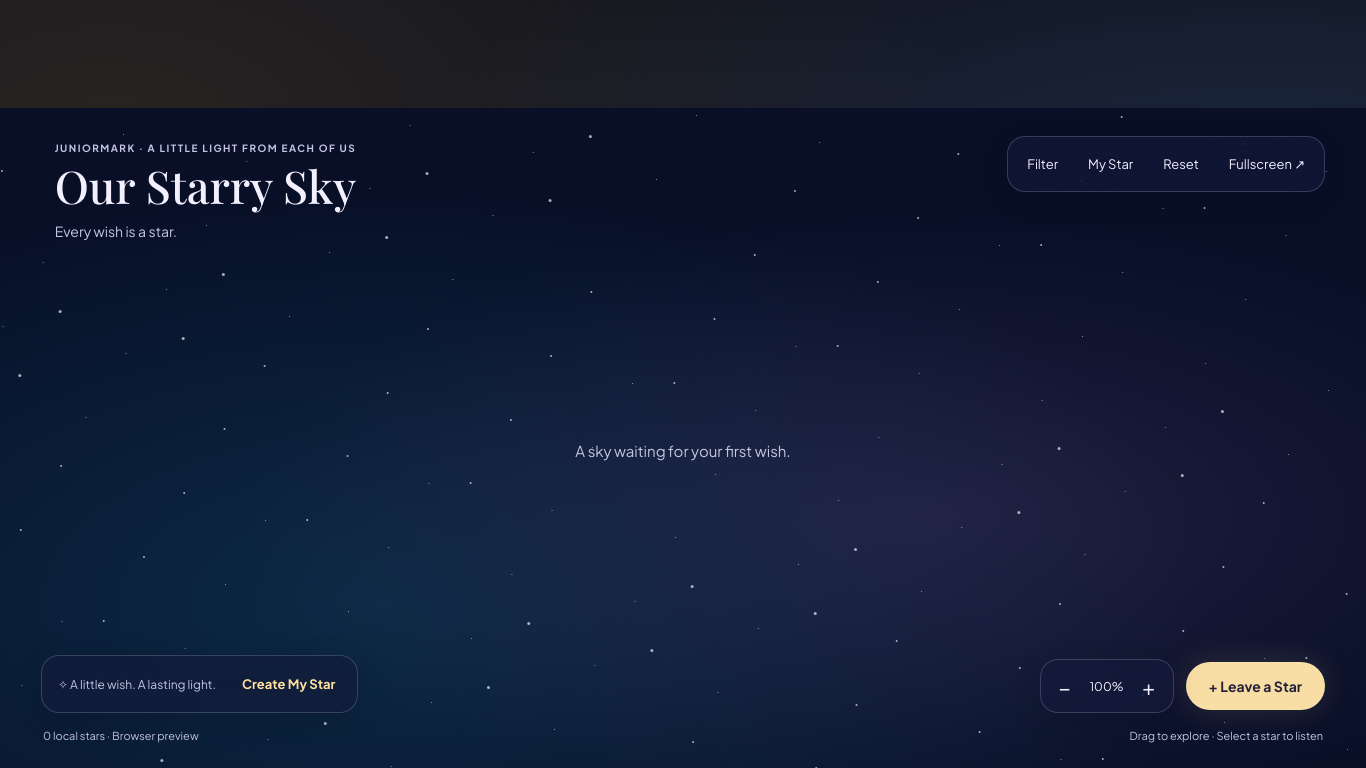
Test case: does not launch when saving a validated wish fails
This screenshot has width=1366, height=768.
Click the button "+ Leave a Star" at (1255, 686), box [1186, 662, 1325, 710]
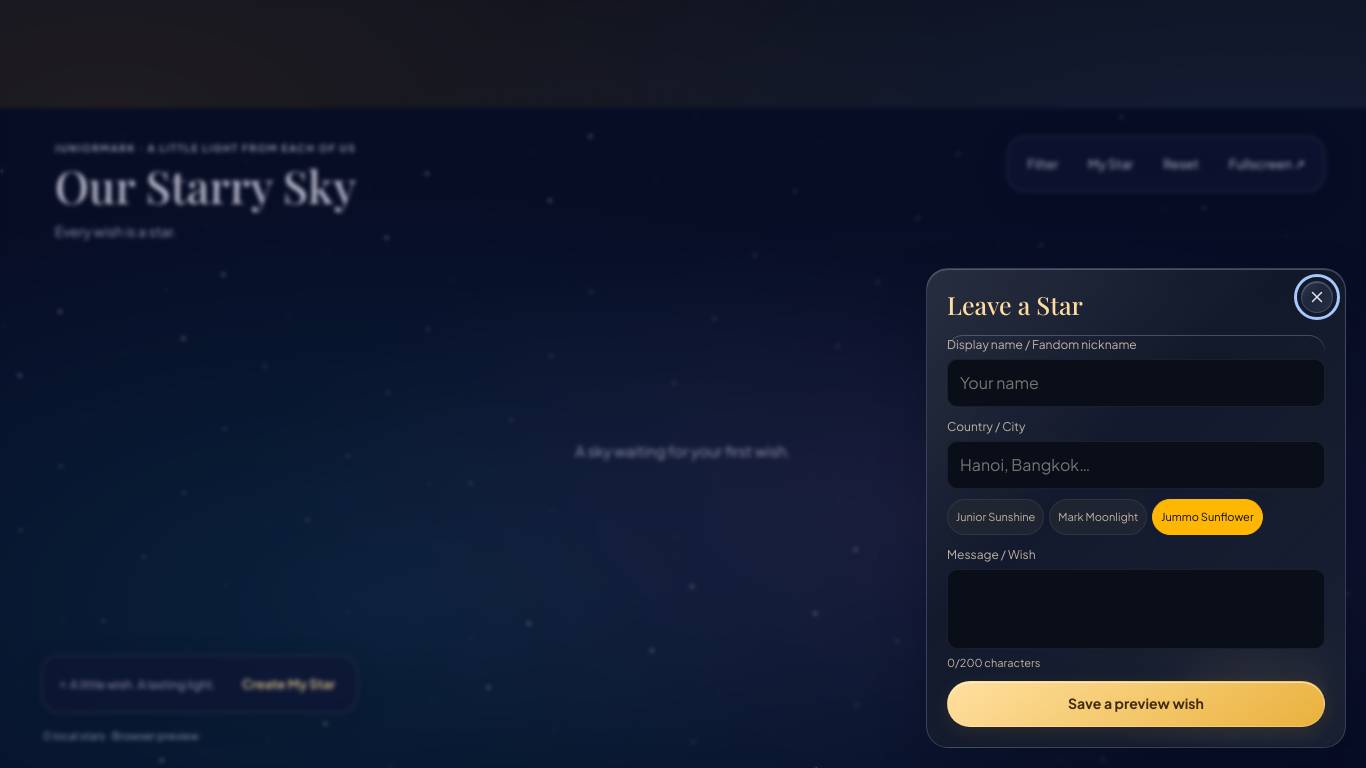
Type "Starlight" into the field labelled "Display name / Fandom nickname" at (1136, 383), box [947, 359, 1325, 407]
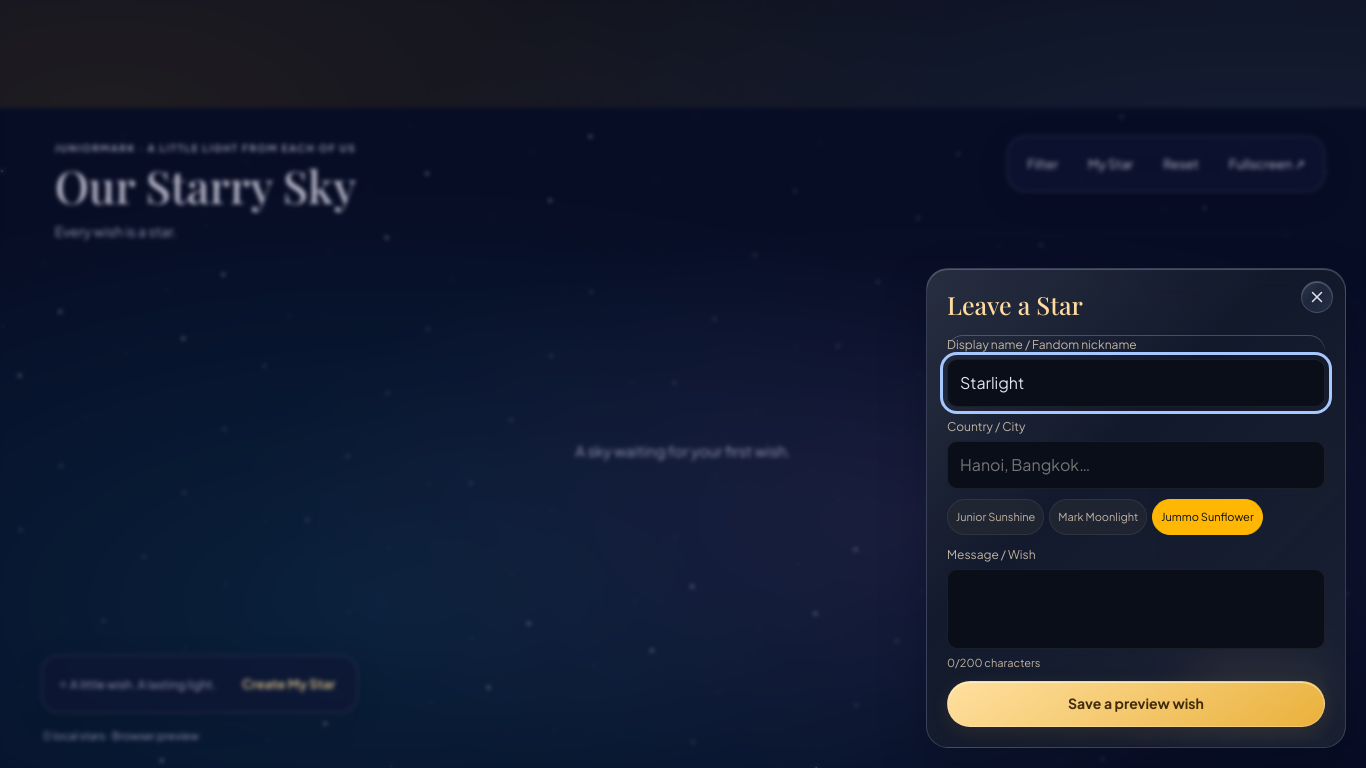
Type "Vietnam" into the field labelled "Country / City" at (1136, 465), box [947, 441, 1325, 489]
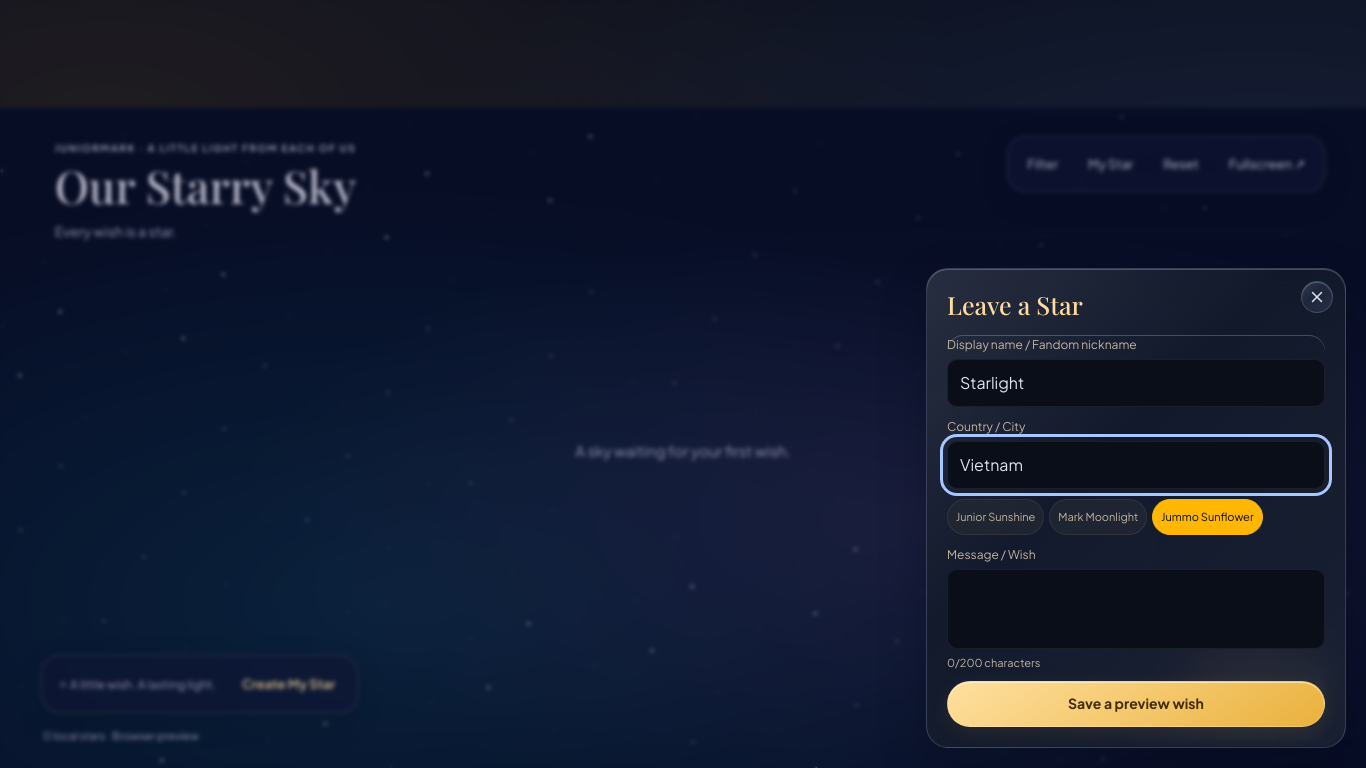
Type "A wish that cannot be saved" into the text box at (1136, 609), box [947, 569, 1325, 649]
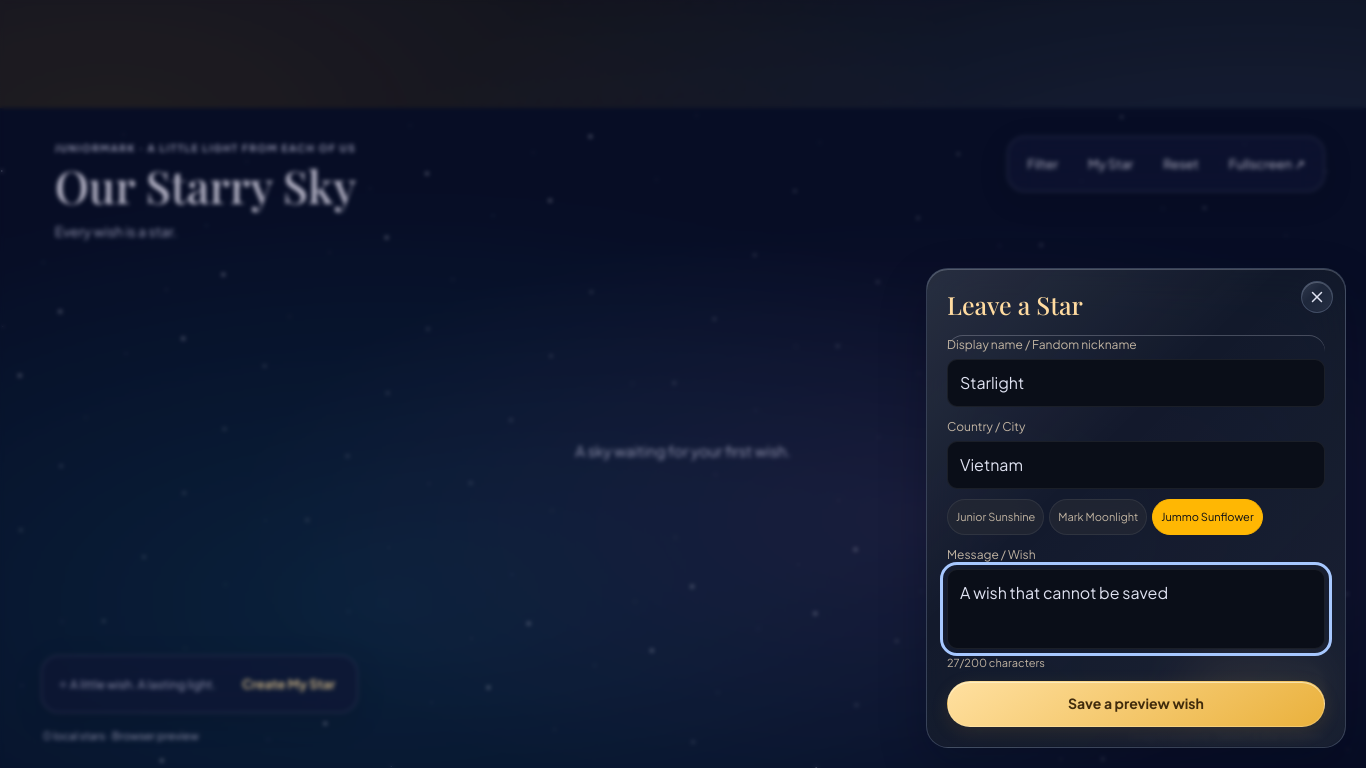
Click the button "Save a preview wish" at (1136, 704), box [947, 681, 1325, 727]
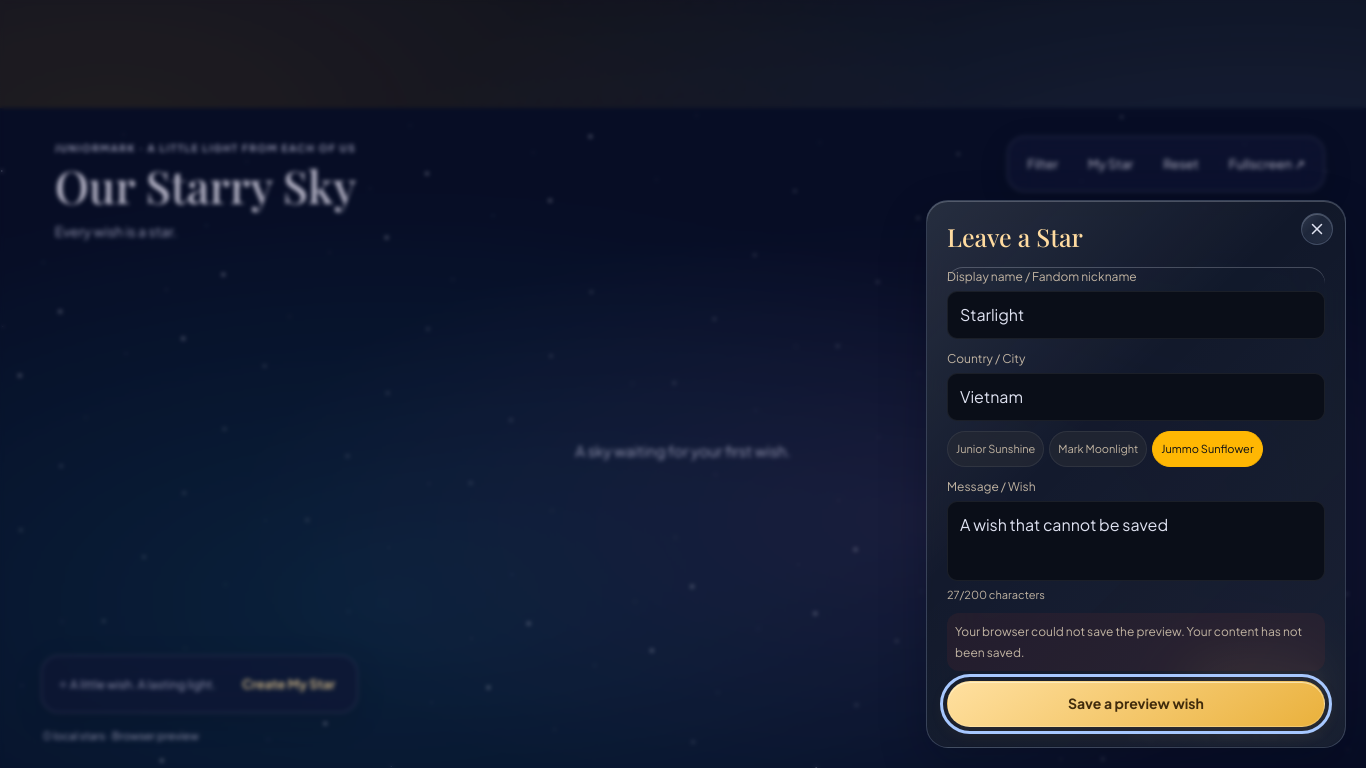
Result: the dialog is shown at [926, 200, 1346, 748]
Result: the message "Your browser could not save the preview. Your content has not been saved." is shown at [947, 613, 1325, 671]
